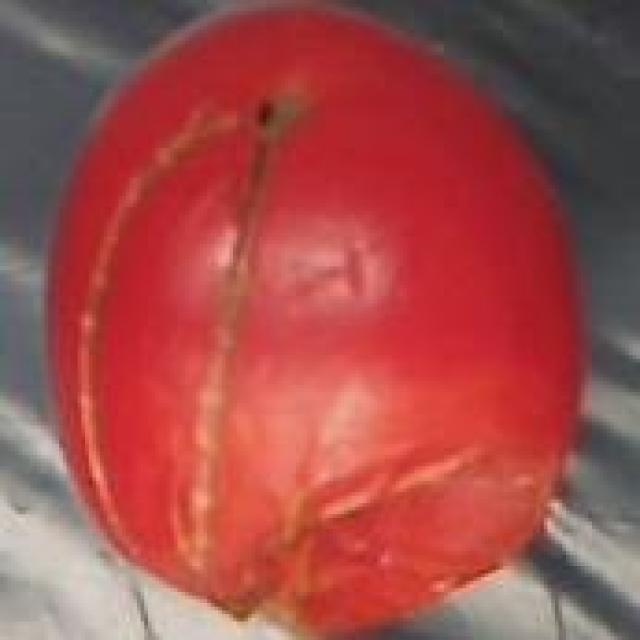overripe tomato: (44, 3, 595, 640)
